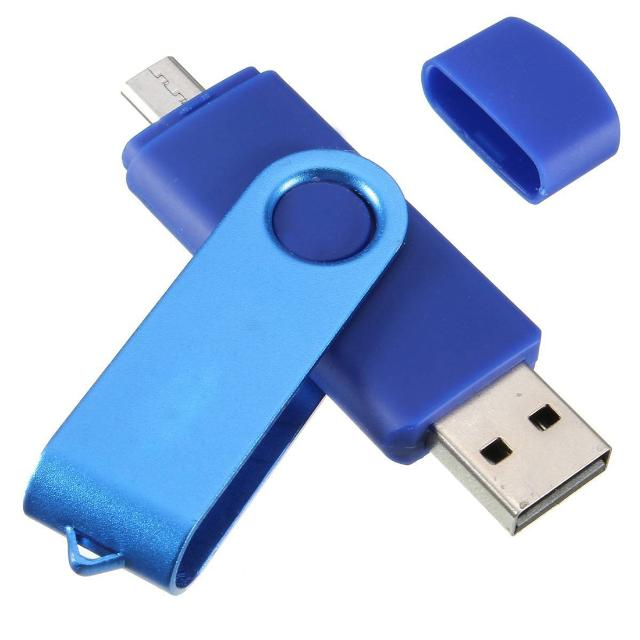USB-Flash-Drive: (38, 34, 618, 612)
